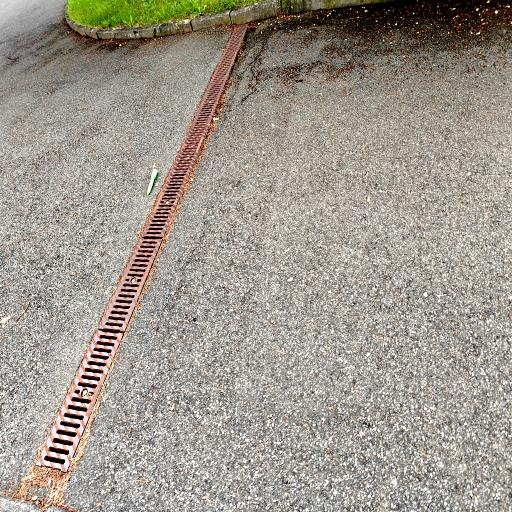Probe-Detection: (147, 168, 158, 195)
